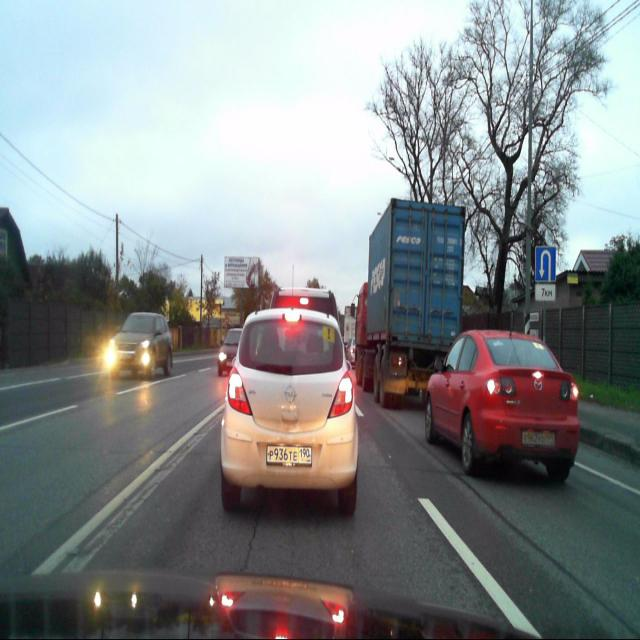road sign: (535, 245, 556, 282), (535, 284, 556, 301)
